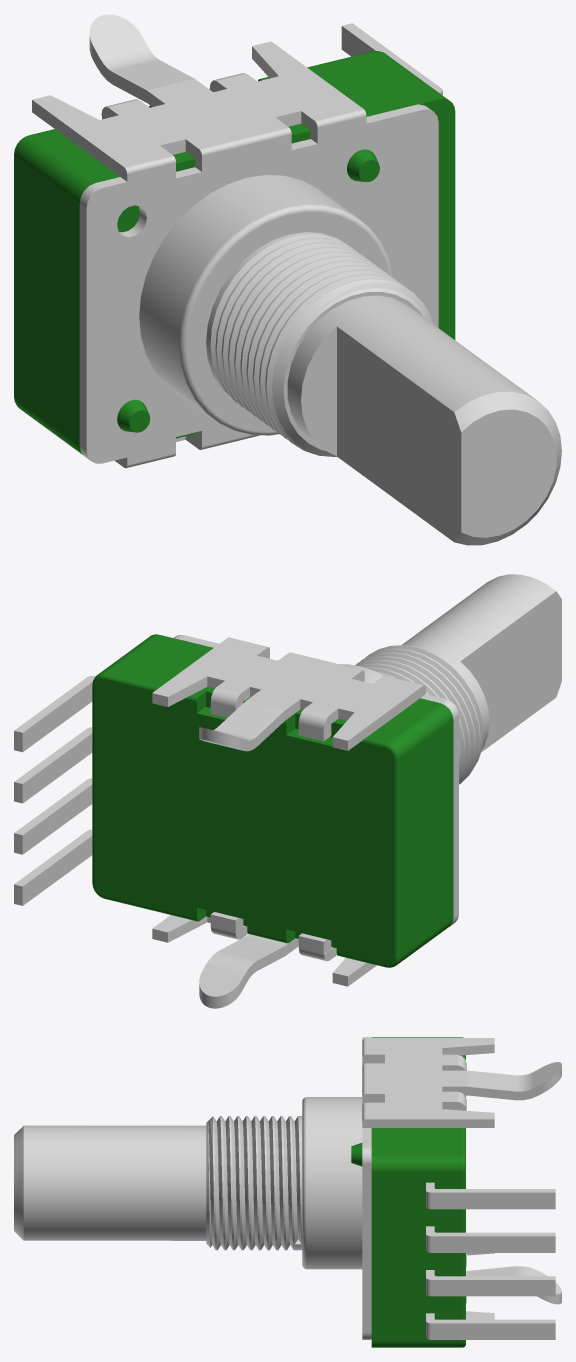
File: pot_RV112FF_D_shaft.glb
3 views of the same model, one above another, from view 1: azimuth 30°, elevation 25°; view 2: azimuth 150°, elevation 25°; view 3: azimuth 270°, elevation 25° (orthographic). The views are drawn at different scales.
Visible parts, largest first — view 1: Solid6, Solid12; view 2: Solid12, Solid6; view 3: Solid6, Solid12.
Boxes of the visible parts, box(x1,y1,x2,y2) form: Solid6: box(32, 14, 561, 545); Solid12: box(14, 51, 455, 454); Solid12: box(92, 634, 453, 967); Solid6: box(14, 574, 561, 1008); Solid6: box(14, 1037, 561, 1339); Solid12: box(351, 1037, 465, 1347).
Size of the model in its own units: 0.0169 by 0.0136 by 0.0285.
